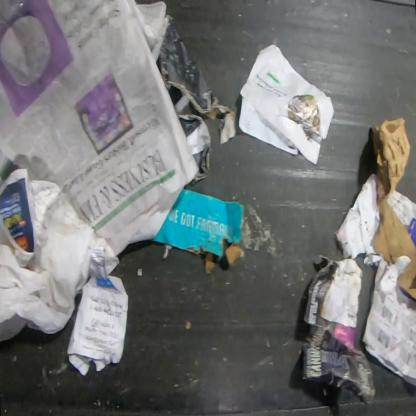cardboard: (156, 12, 237, 187), (148, 187, 246, 276), (369, 114, 415, 301)
soft_plastic: (0, 191, 99, 342)
